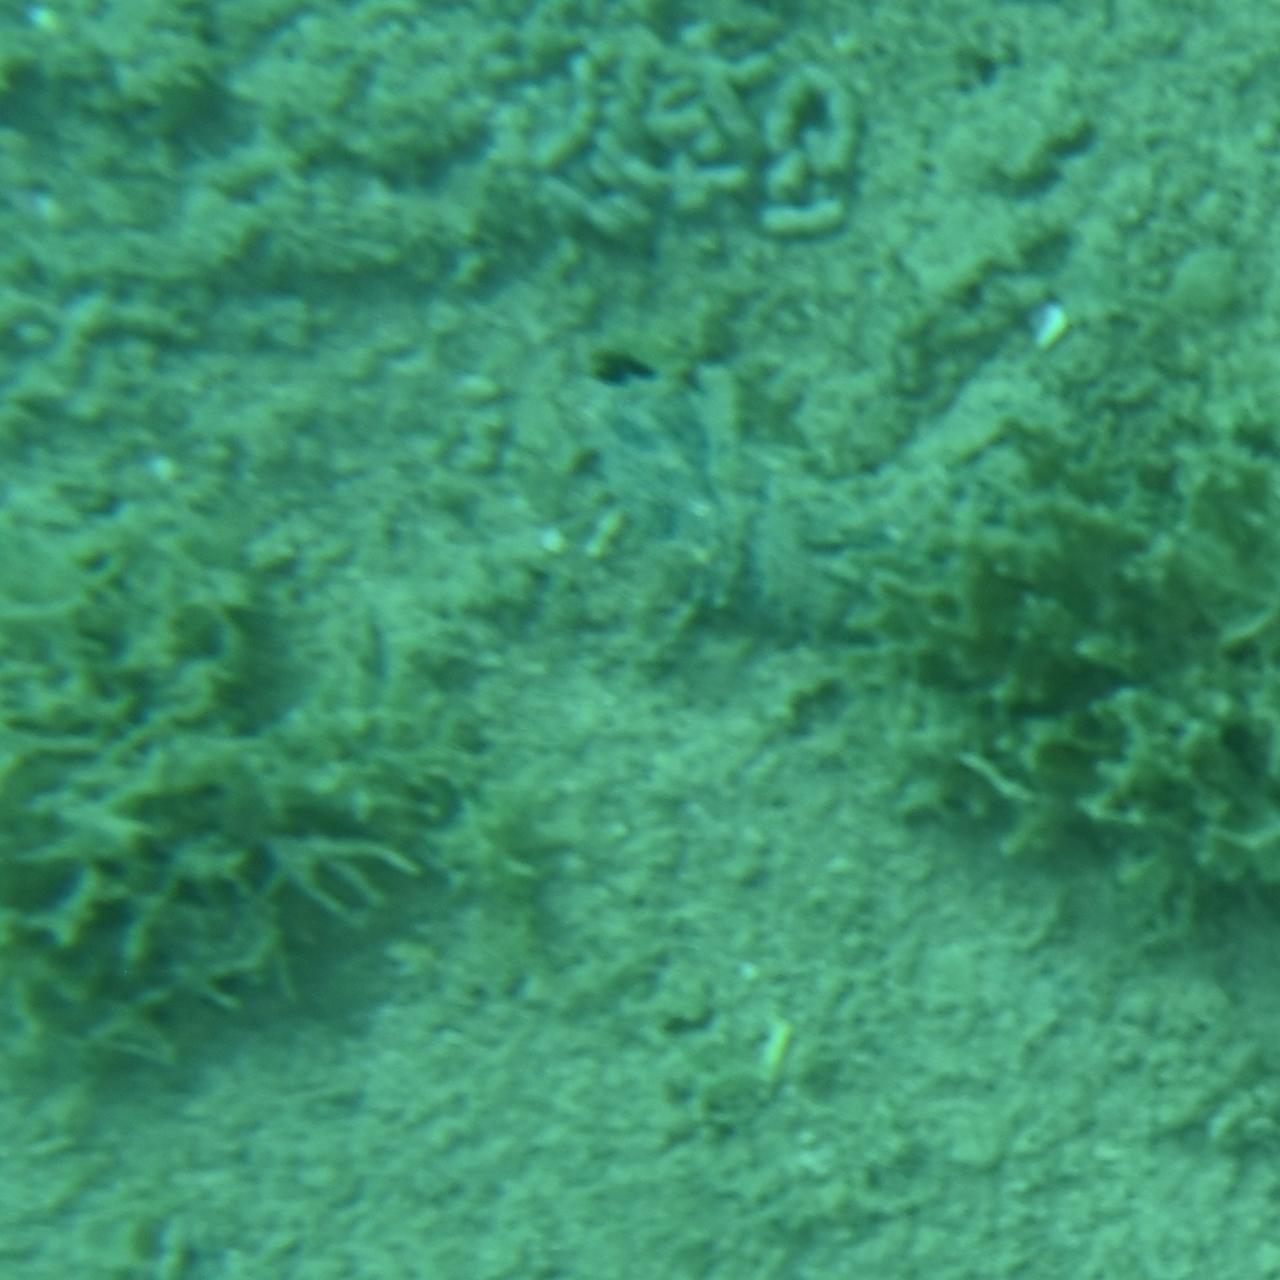Holothuria tubulosa: (511, 304, 1177, 652)
Phaeophyceae -cfr Cystoseira-: (0, 510, 489, 1094), (867, 413, 1280, 933)
